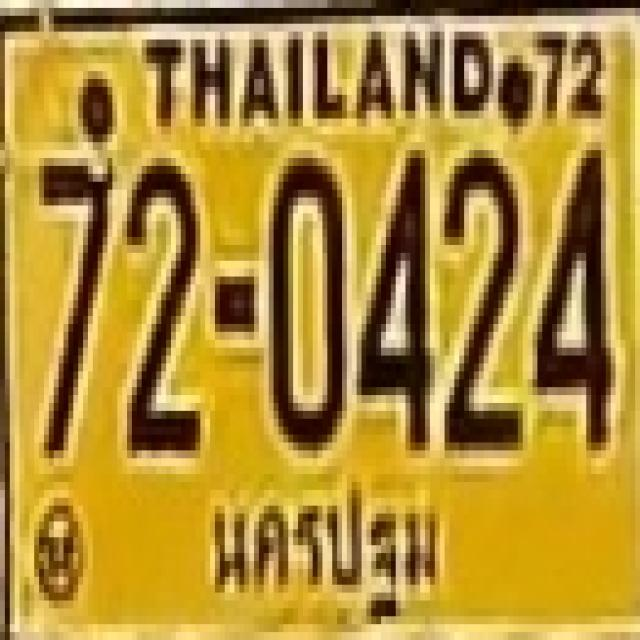0: (269, 150, 342, 443)
2: (442, 146, 516, 446), (122, 158, 196, 450)
4: (530, 142, 608, 442), (357, 142, 430, 442)
7: (34, 158, 112, 450)
NPT: (204, 477, 445, 622)
